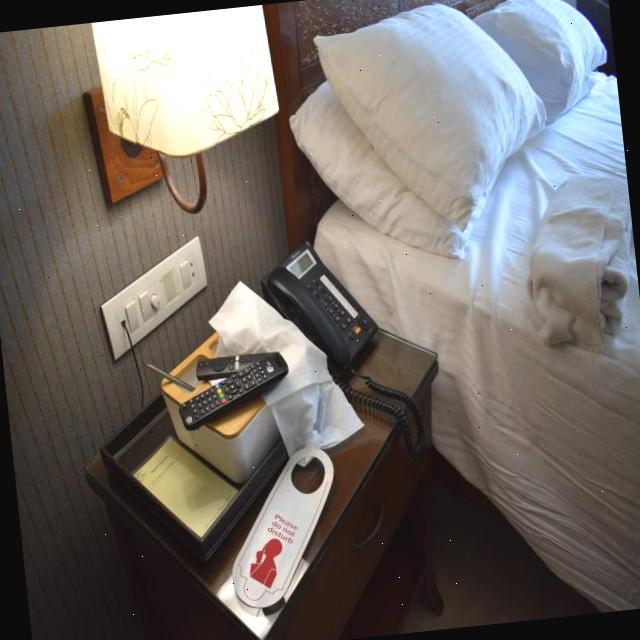lamp: (69, 3, 288, 230)
mess: (139, 279, 362, 486)
messy_table: (85, 251, 439, 640)
